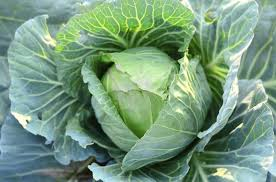cabbage: (92, 50, 214, 162)
